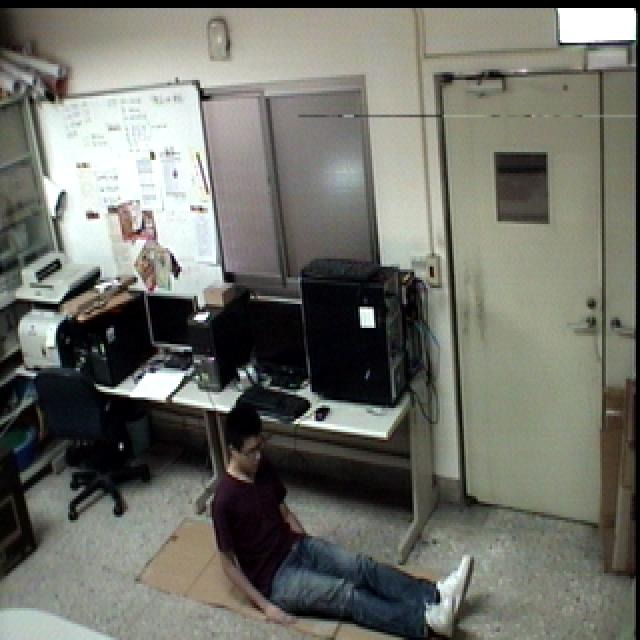sit: (204, 401, 482, 640)
